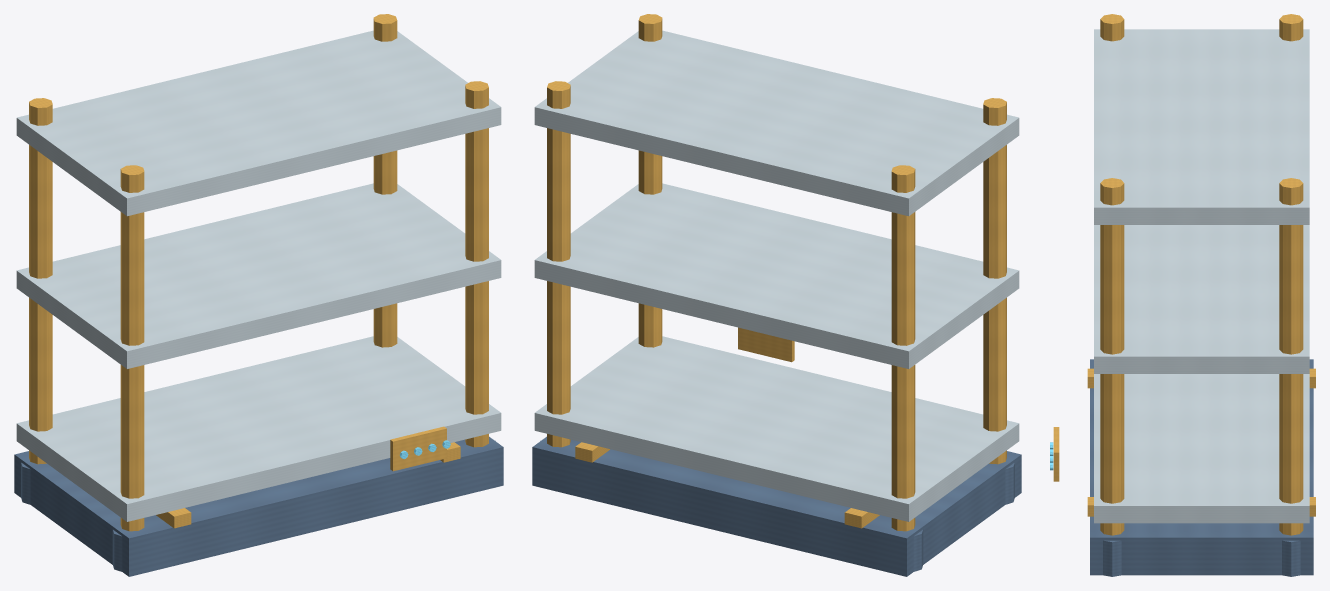
The model's file is atlas100-s059-a06.glb.
3 views of the same model, side by side, from view 1: azimuth 30°, elevation 25°; view 2: azimuth 150°, elevation 25°; view 3: azimuth 270°, elevation 25° (orthographic). The views are drawn at different scales.
Parts seen in each view (by area): view 1: atlas100-s059-a06:part-013, atlas100-s059-a06:part-012, atlas100-s059-a06:part-011, atlas100-s059-a06:part-000, atlas100-s059-a06:part-005, atlas100-s059-a06:part-009, atlas100-s059-a06:part-003, atlas100-s059-a06:part-007, atlas100-s059-a06:part-014; view 2: atlas100-s059-a06:part-013, atlas100-s059-a06:part-012, atlas100-s059-a06:part-011, atlas100-s059-a06:part-000, atlas100-s059-a06:part-003, atlas100-s059-a06:part-007, atlas100-s059-a06:part-005, atlas100-s059-a06:part-009, atlas100-s059-a06:part-014; view 3: atlas100-s059-a06:part-013, atlas100-s059-a06:part-011, atlas100-s059-a06:part-012, atlas100-s059-a06:part-000, atlas100-s059-a06:part-007, atlas100-s059-a06:part-009, atlas100-s059-a06:part-008, atlas100-s059-a06:part-010, atlas100-s059-a06:part-003, atlas100-s059-a06:part-005, atlas100-s059-a06:part-014.
Part boxes in pixels (box(x1,y1,x2,y2)): atlas100-s059-a06:part-013: box(16, 30, 501, 216); atlas100-s059-a06:part-012: box(16, 183, 501, 368); atlas100-s059-a06:part-011: box(16, 336, 501, 521); atlas100-s059-a06:part-000: box(14, 436, 503, 576); atlas100-s059-a06:part-005: box(120, 165, 144, 531); atlas100-s059-a06:part-009: box(465, 81, 488, 447); atlas100-s059-a06:part-003: box(29, 98, 52, 464); atlas100-s059-a06:part-007: box(373, 14, 397, 347); atlas100-s059-a06:part-014: box(390, 426, 446, 471); atlas100-s059-a06:part-013: box(534, 30, 1019, 216); atlas100-s059-a06:part-012: box(534, 183, 1019, 368); atlas100-s059-a06:part-011: box(534, 336, 1019, 521); atlas100-s059-a06:part-000: box(532, 436, 1021, 576); atlas100-s059-a06:part-003: box(891, 165, 915, 531); atlas100-s059-a06:part-007: box(547, 81, 570, 447); atlas100-s059-a06:part-005: box(983, 98, 1006, 464); atlas100-s059-a06:part-009: box(638, 14, 662, 347); atlas100-s059-a06:part-014: box(738, 327, 794, 362); atlas100-s059-a06:part-013: box(1094, 29, 1309, 224); atlas100-s059-a06:part-011: box(1094, 374, 1309, 523); atlas100-s059-a06:part-012: box(1094, 225, 1309, 373); atlas100-s059-a06:part-000: box(1090, 359, 1313, 575); atlas100-s059-a06:part-007: box(1279, 178, 1303, 535); atlas100-s059-a06:part-009: box(1100, 178, 1124, 535); atlas100-s059-a06:part-008: box(1282, 540, 1300, 576); atlas100-s059-a06:part-010: box(1103, 540, 1121, 576); atlas100-s059-a06:part-003: box(1279, 14, 1303, 41); atlas100-s059-a06:part-005: box(1100, 14, 1124, 41); atlas100-s059-a06:part-014: box(1053, 427, 1059, 481).
Size of the model in its own units: 2.69 by 2.66 by 1.66.
Materials: 4 (4 with a texture image).
